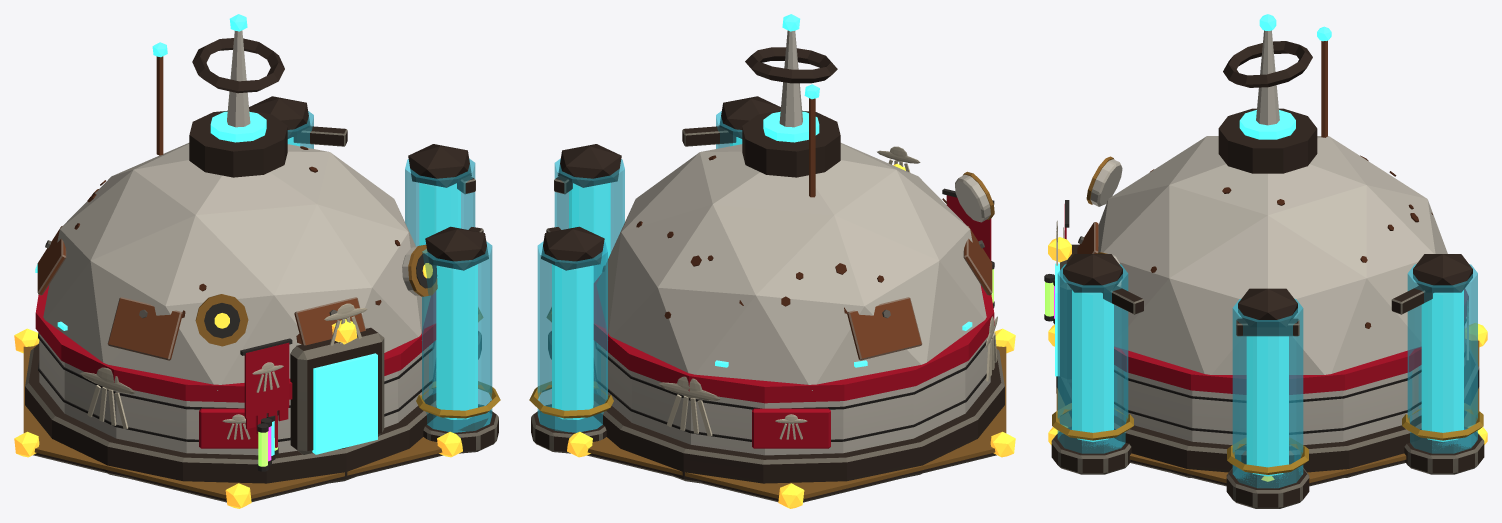
File: gb_barracks.glb
3 views of the same model, side by side, from view 1: azimuth 30°, elevation 25°; view 2: azimuth 150°, elevation 25°; view 3: azimuth 270°, elevation 25° (orthographic).
Parts seen in each view (by area): view 1: gb_barracks; view 2: gb_barracks; view 3: gb_barracks.
Boxes of the visible parts, x1,y1,x2,y2 form: gb_barracks: (14,14,500,508); gb_barracks: (529,14,1015,508); gb_barracks: (1044,14,1487,508).
Size of the model in its own units: 7.43 by 5.99 by 6.29.
